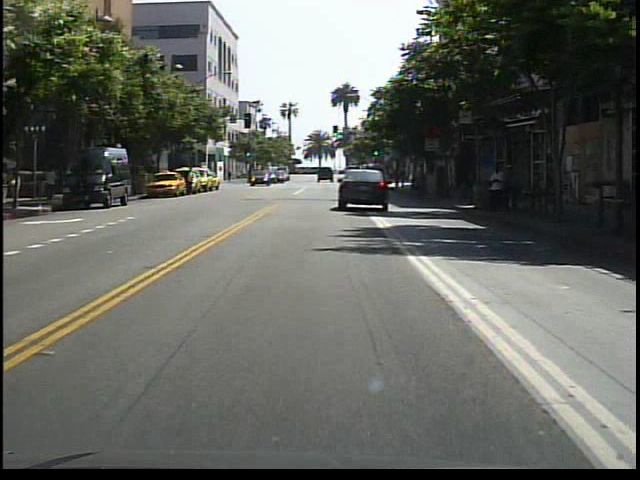person: (484, 159, 512, 219), (183, 162, 199, 198)
